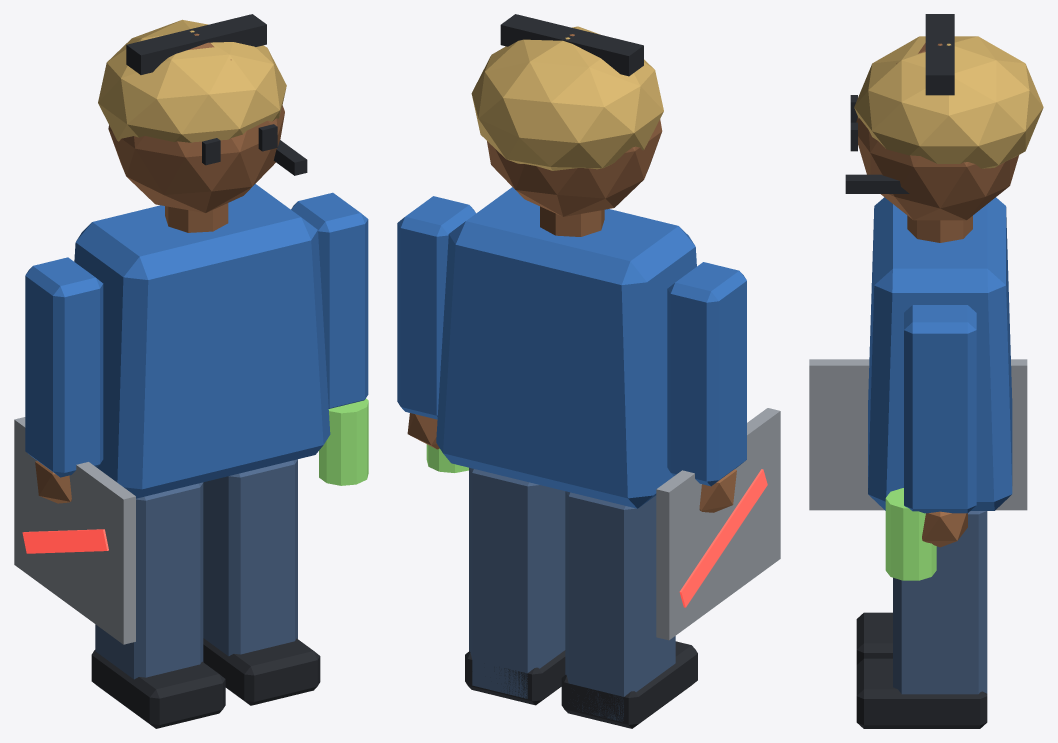
File: projectmanager.glb
The picture shows the model from 3 angles, left to right: view 1: azimuth 30°, elevation 25°; view 2: azimuth 150°, elevation 25°; view 3: azimuth 270°, elevation 25°; orthographic projection. The views are drawn at different scales.
Visible parts, largest first — view 1: Body, ArmR, LegL, LegR, ArmL, Props; view 2: Body, ArmR, LegR, LegL, ArmL, Props; view 3: Body, ArmL, LegL, ArmR, Props, LegR.
Part boxes in pixels (box(x1,y1,x2,y2)): Body: box(74, 19, 330, 498); ArmR: box(14, 257, 135, 644); LegL: box(203, 459, 320, 705); LegR: box(91, 482, 225, 728); ArmL: box(291, 192, 368, 485); Props: box(126, 14, 307, 175); Body: box(436, 26, 696, 508); ArmR: box(656, 262, 780, 640); LegR: box(561, 491, 697, 728); LegL: box(465, 467, 565, 705); ArmL: box(397, 196, 475, 472); Props: box(500, 14, 643, 76); Body: box(850, 36, 1043, 510); ArmL: box(885, 305, 976, 580); LegL: box(856, 511, 987, 728); ArmR: box(809, 359, 1027, 510); Props: box(845, 14, 954, 193); LegR: box(856, 612, 892, 664).
Size of the model in its own units: 0.7257 by 1.42 by 0.4674.
